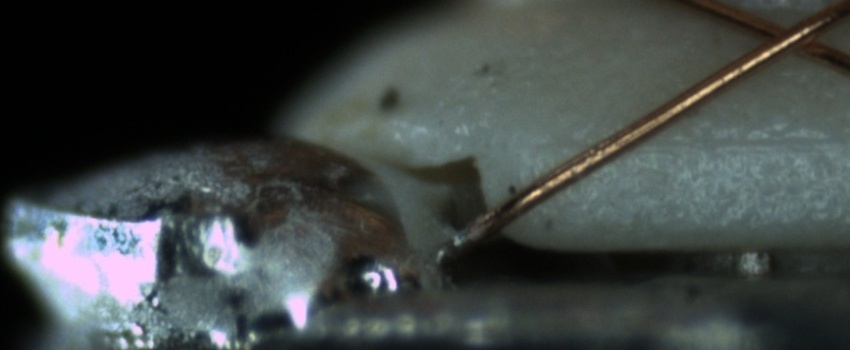CL: (732, 5, 834, 66)
DL: (547, 111, 850, 174)
